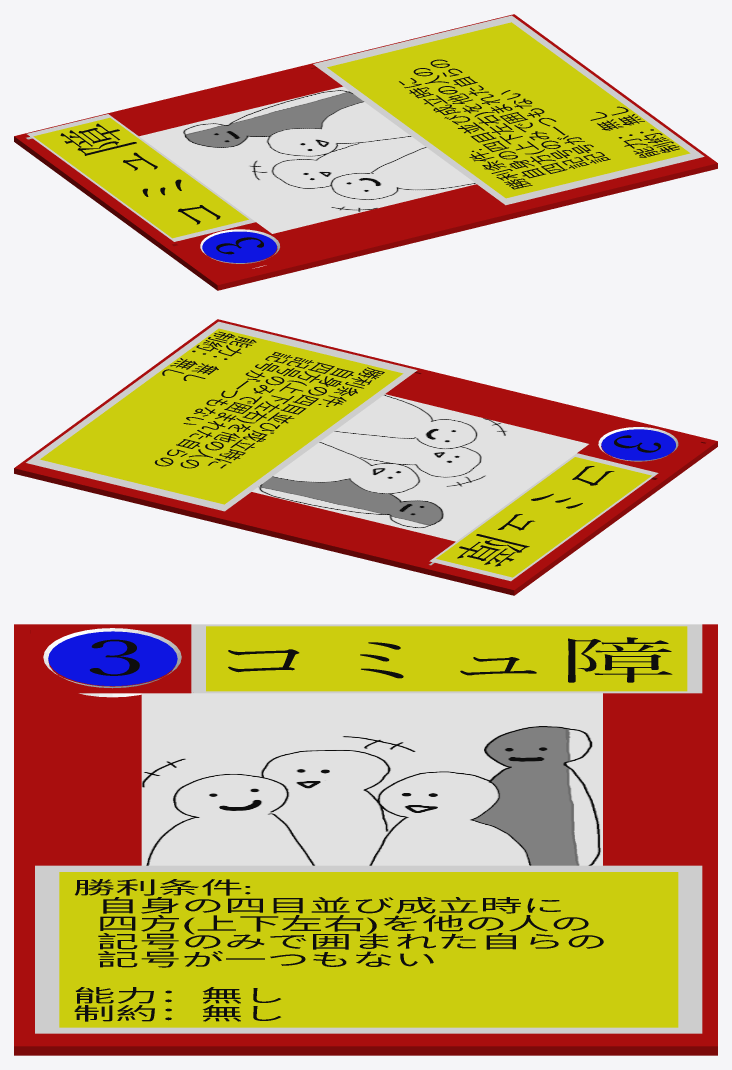
Rendered from コミュ障赤.fbx.
3 renders of one model, top to bottom at view 1: azimuth 30°, elevation 25°; view 2: azimuth 150°, elevation 25°; view 3: azimuth 270°, elevation 25°, orthographic. The views are drawn at different scales.
Visible parts, largest first — view 1: 説明欄, 平面.001, カード本体.001, 名前欄, 説明文, 円, 平面, 名前; view 2: 説明欄, 平面.001, カード本体.001, 名前欄, 説明文, 円, 平面, 名前; view 3: 説明欄, 平面.001, カード本体.001, 名前欄, 説明文, 円, 平面, 名前, コスト蘭.
Boxes of the visible parts, left/top/right/bottom form: 説明欄: left=313, top=15, right=704, bottom=205; 平面.001: left=139, top=86, right=476, bottom=233; カード本体.001: left=14, top=14, right=717, bottom=290; 名前欄: left=27, top=114, right=255, bottom=241; 説明文: left=399, top=59, right=679, bottom=189; 円: left=202, top=231, right=276, bottom=262; 平面: left=174, top=222, right=302, bottom=275; 名前: left=60, top=123, right=220, bottom=224; 説明欄: left=26, top=321, right=417, bottom=511; 平面.001: left=252, top=394, right=588, bottom=541; カード本体.001: left=14, top=319, right=717, bottom=595; 名前欄: left=429, top=453, right=658, bottom=581; 説明文: left=154, top=331, right=384, bottom=468; 円: left=601, top=429, right=675, bottom=460; 平面: left=577, top=419, right=704, bottom=472; 名前: left=457, top=466, right=614, bottom=566; 説明欄: left=35, top=865, right=702, bottom=1033; 平面.001: left=141, top=693, right=602, bottom=865; カード本体.001: left=14, top=624, right=717, bottom=1055; 名前欄: left=191, top=624, right=702, bottom=693; 説明文: left=74, top=879, right=603, bottom=1021; 円: left=48, top=631, right=177, bottom=686; 平面: left=30, top=624, right=191, bottom=693; 名前: left=228, top=637, right=672, bottom=682; コスト蘭: left=43, top=628, right=181, bottom=697.
Size of the model in its own units: 281 by 6.07 by 198.
